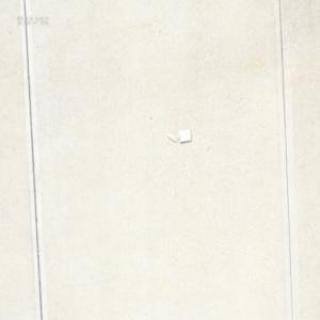LuggageTagtrack_idkeyframe: (165, 127, 190, 144)
